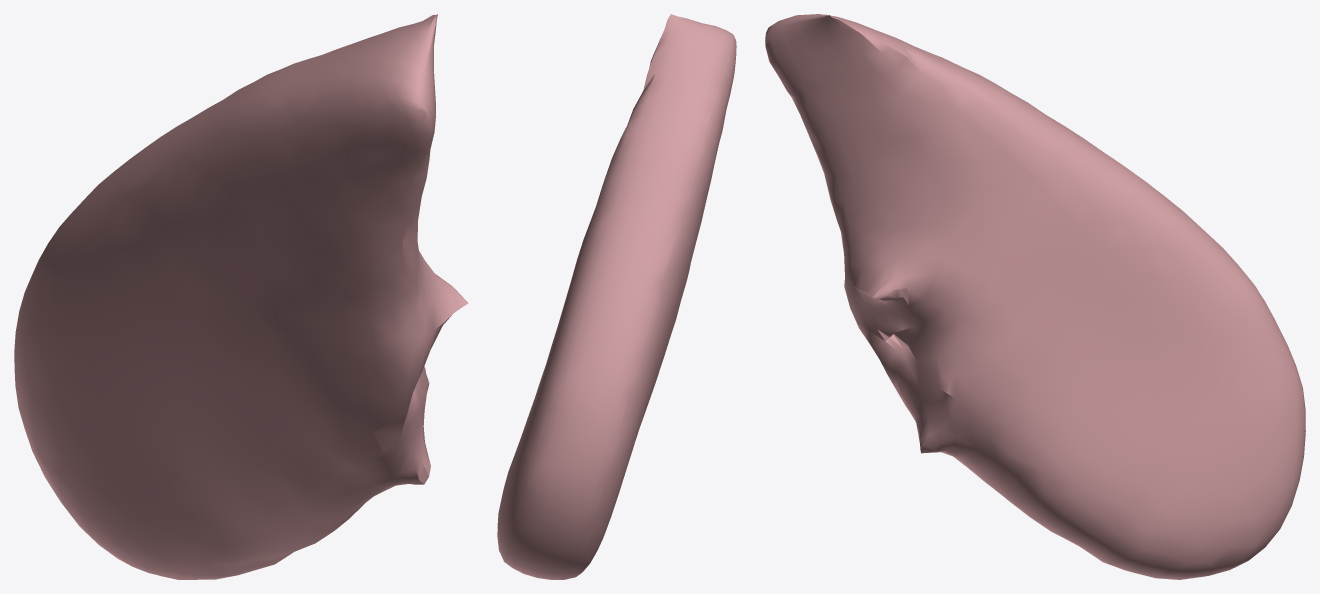
File: fma9478_mm587.glb
3 renders of one model, left to right at view 1: azimuth 30°, elevation 25°; view 2: azimuth 150°, elevation 25°; view 3: azimuth 270°, elevation 25°, orthographic. The views are drawn at different scales.
Parts seen in each view (by area): view 1: FMA9478_MM587; view 2: FMA9478_MM587; view 3: FMA9478_MM587.
Part boxes in pixels (left/top/right/bottom): FMA9478_MM587: left=14, top=14, right=468, bottom=579; FMA9478_MM587: left=497, top=14, right=736, bottom=579; FMA9478_MM587: left=765, top=14, right=1305, bottom=579.
Size of the model in its own units: 0.0018 by 0.00502 by 0.00431.
